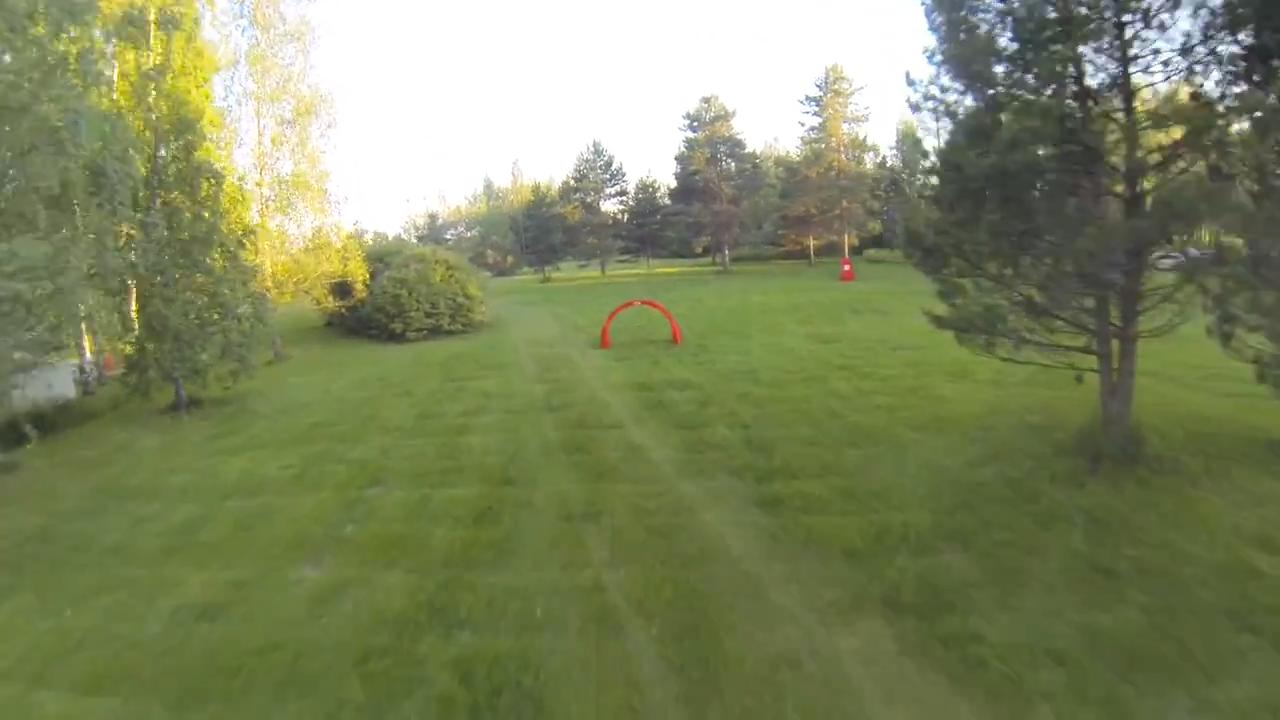gate: (600, 298, 683, 349)
